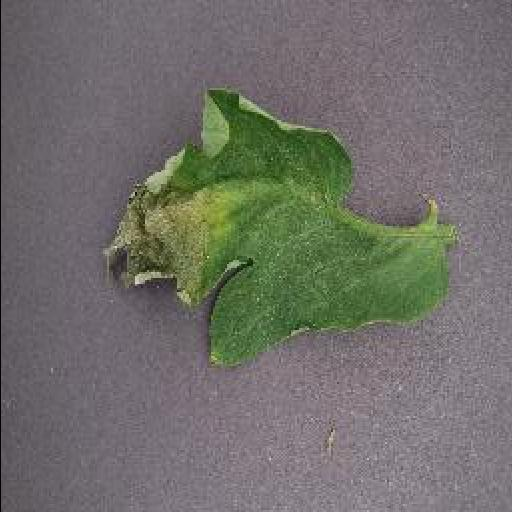disease_tomato: (106, 89, 452, 371)
